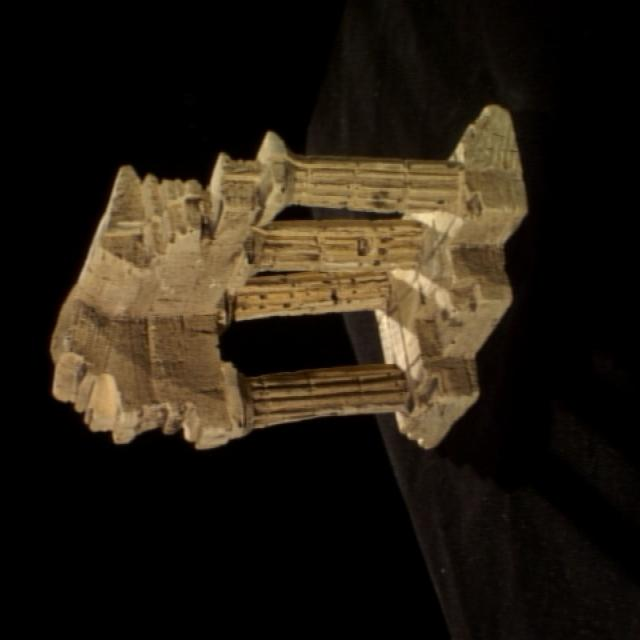Instance-Segmentation: (52, 105, 526, 448)
